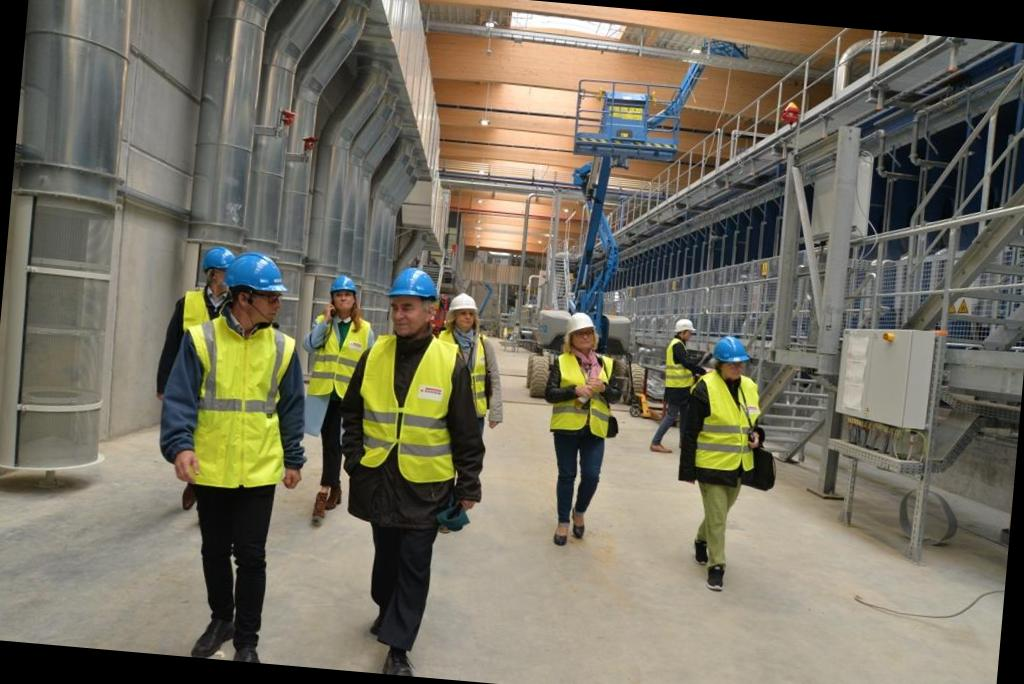Helmet: (219, 240, 304, 314), (378, 264, 447, 312), (702, 323, 761, 370), (551, 306, 600, 348), (321, 275, 366, 311), (662, 311, 698, 346), (448, 288, 478, 325)
Vest: (171, 311, 308, 503), (345, 320, 482, 508), (680, 359, 762, 487), (534, 347, 618, 463), (307, 312, 375, 407), (656, 329, 696, 402)
